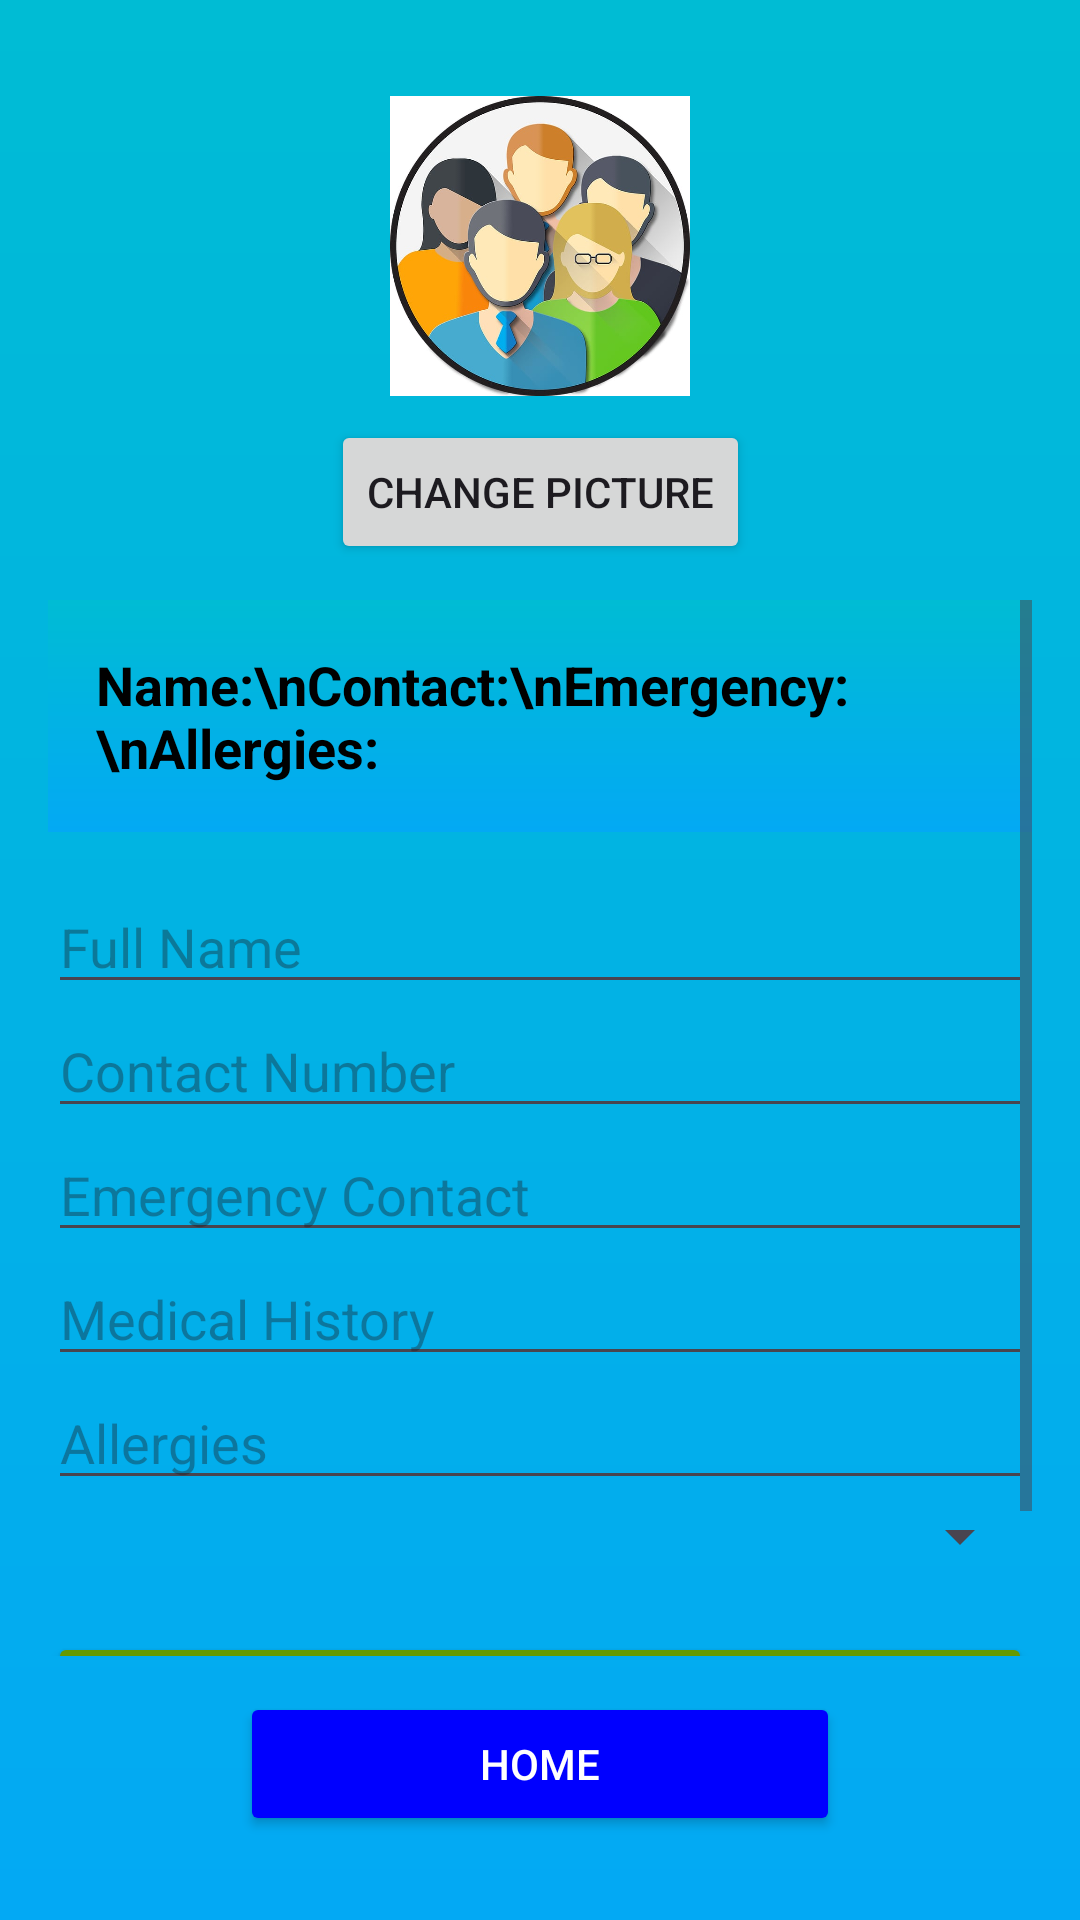

Screen size 1080 x 1920. Icon name, then its center in pixels as [x,y]:
Profile Image: [540,246]
